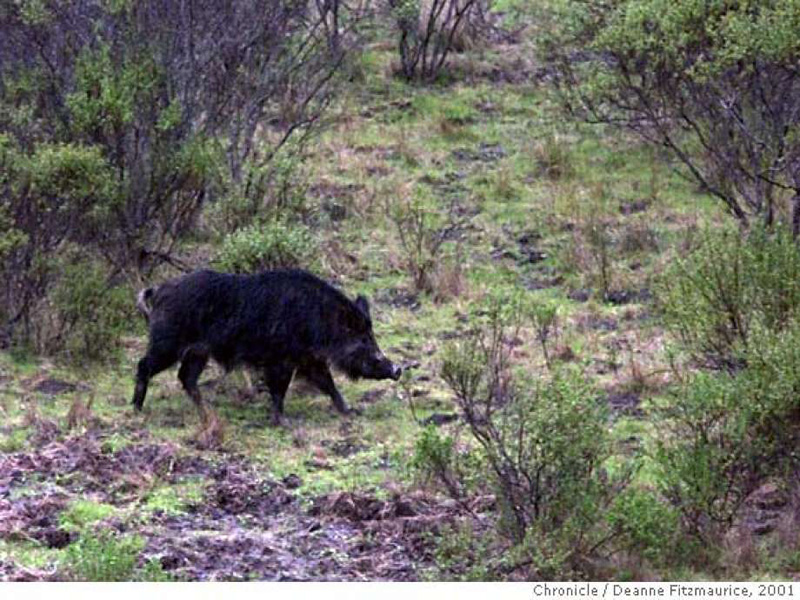cinghiale: (124, 259, 387, 418)
